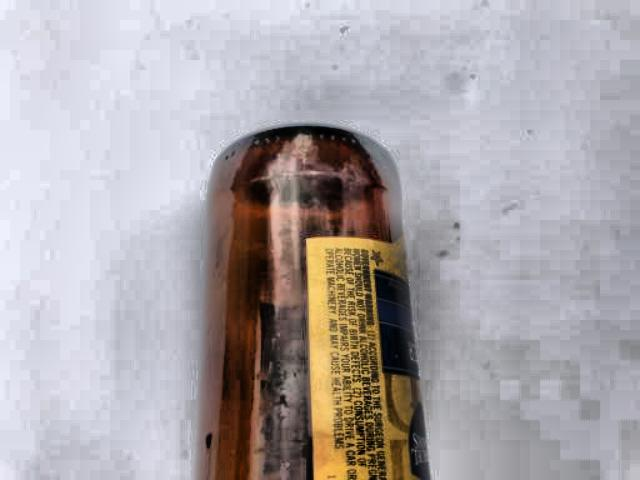Bottles: (185, 65, 460, 480)
